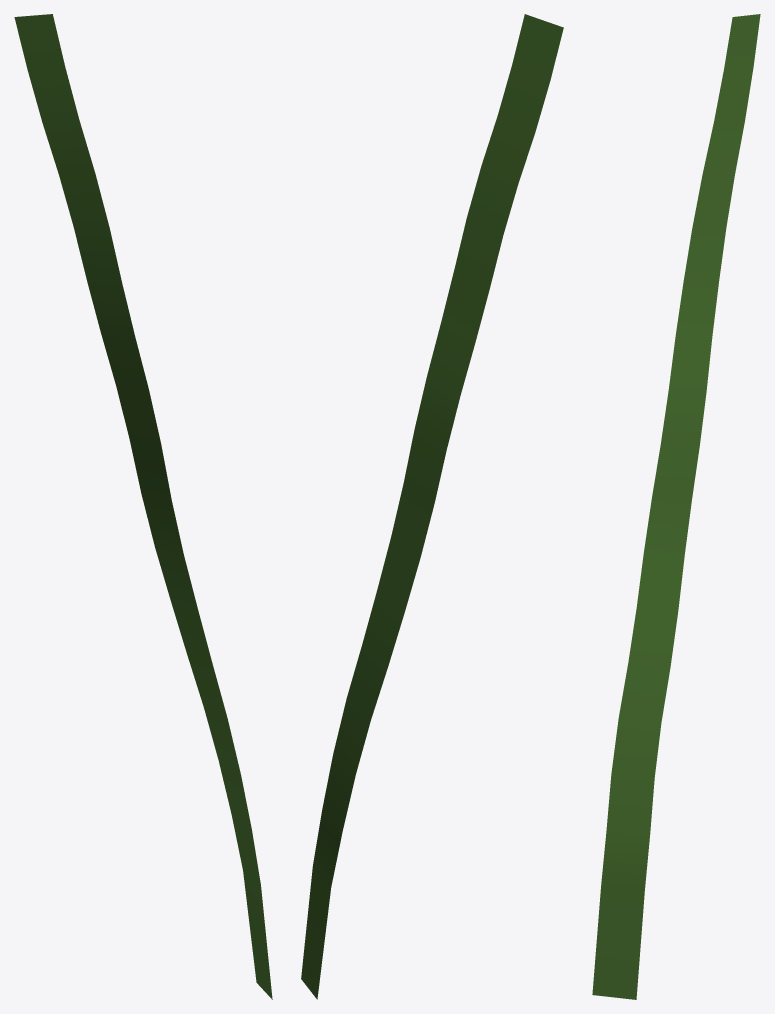
File: plant_swamp_kelp_giant_A_solo_F.fbx
3 views of the same model, side by side, from view 1: azimuth 30°, elevation 25°; view 2: azimuth 210°, elevation 25°; view 3: azimuth 270°, elevation 25° (orthographic). The views are drawn at different scales.
Parts seen in each view (by area): view 1: plant_swamp_kelp_giant_A_solo_F; view 2: plant_swamp_kelp_giant_A_solo_F; view 3: plant_swamp_kelp_giant_A_solo_F.
Part boxes in pixels (box(x1,y1,x2,y2)): plant_swamp_kelp_giant_A_solo_F: box(14, 14, 272, 999); plant_swamp_kelp_giant_A_solo_F: box(301, 14, 563, 999); plant_swamp_kelp_giant_A_solo_F: box(592, 14, 760, 999).
Bounding box in the file's own units: 71.65 × 376 × 62.83.
